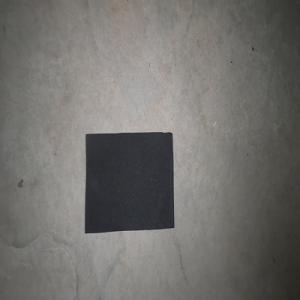PaintChip: (84, 131, 174, 233)
